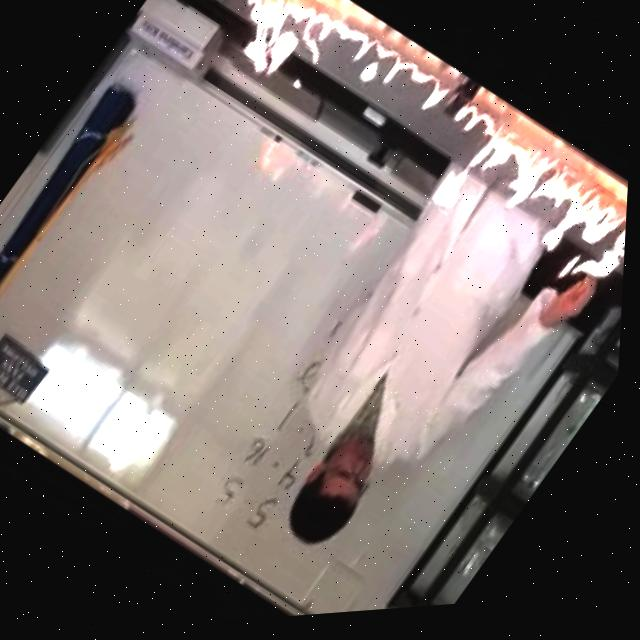Fire: (179, 0, 640, 364)
